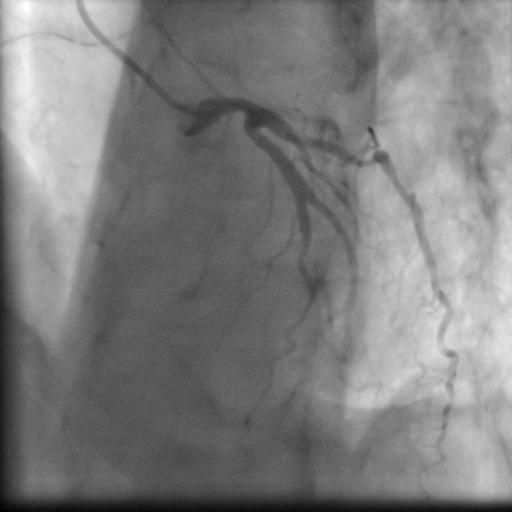Stenosis: (352, 146, 384, 175)
